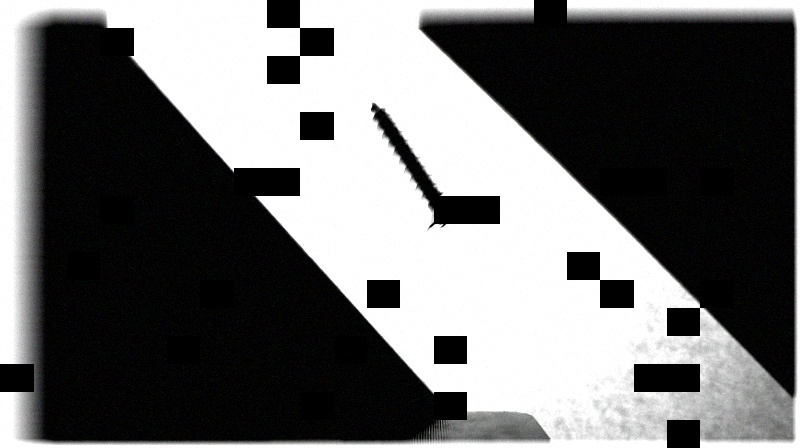S001: (369, 101, 472, 235)
